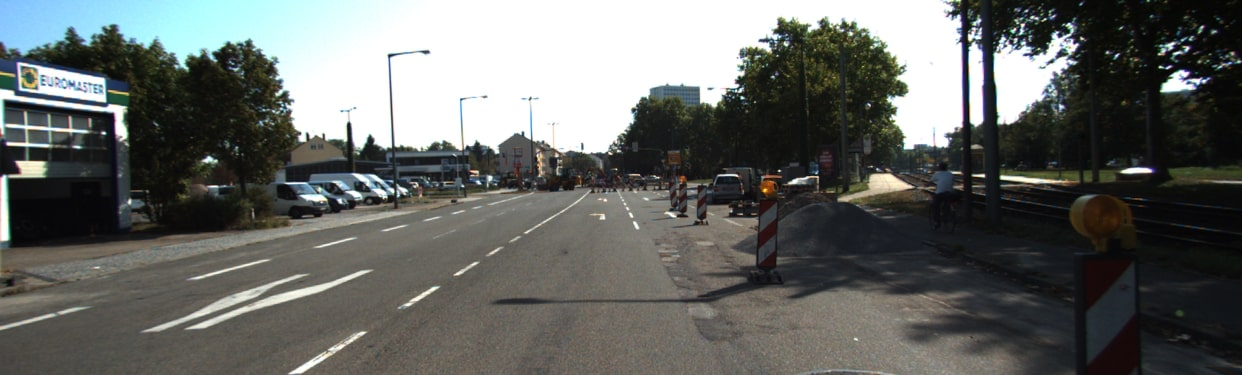Cyclist: (922, 158, 964, 252)
car: (266, 180, 327, 216), (710, 178, 745, 208)
